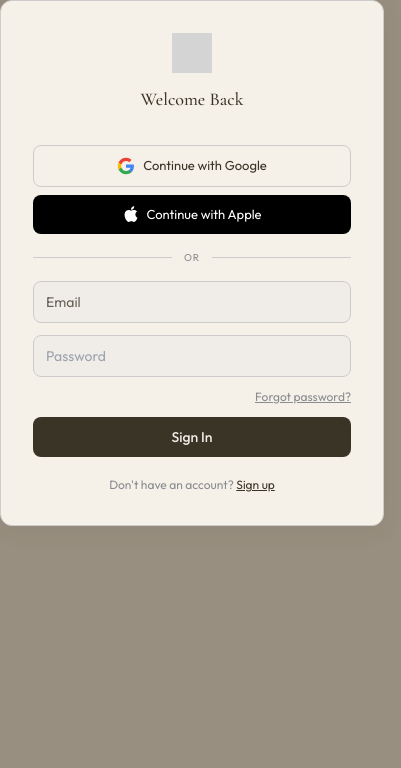
Test: AuthCard verify-password › on a match, swaps the card to the verify notice inline (no navigation, no sessionStorage)
Click the button "Sign up": [256, 485] box top-left (236, 477), bottom-right (275, 493)
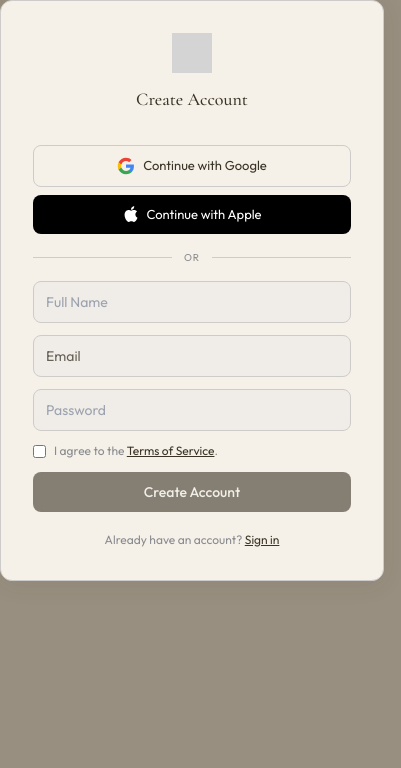
In the field with placeholder "Full Name": [192, 302] box top-left (33, 281), bottom-right (351, 323), type "Sarah"
In the field with placeholder "Email": [192, 356] box top-left (33, 335), bottom-right (351, 377), type "sarah@example.com"
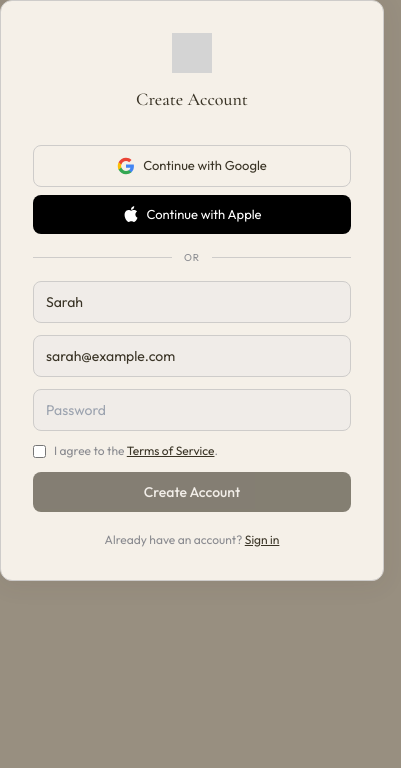
In the password field with placeholder "Password": [192, 410] box top-left (33, 389), bottom-right (351, 431), type "Secret1!"
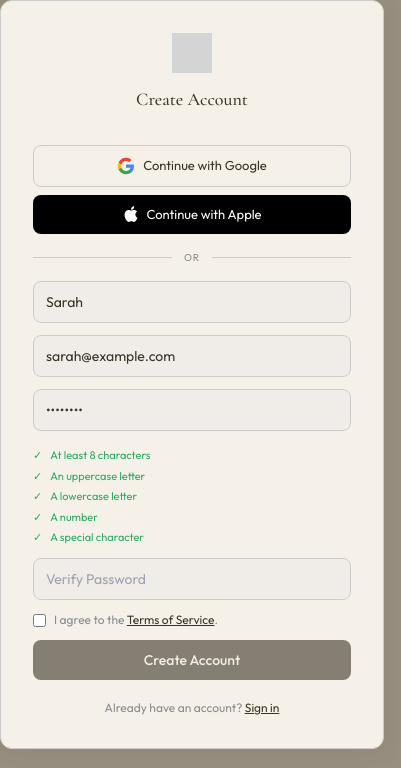
In the password field labelled "Verify Password": [192, 578] box top-left (33, 558), bottom-right (351, 600), type "Secret1!"
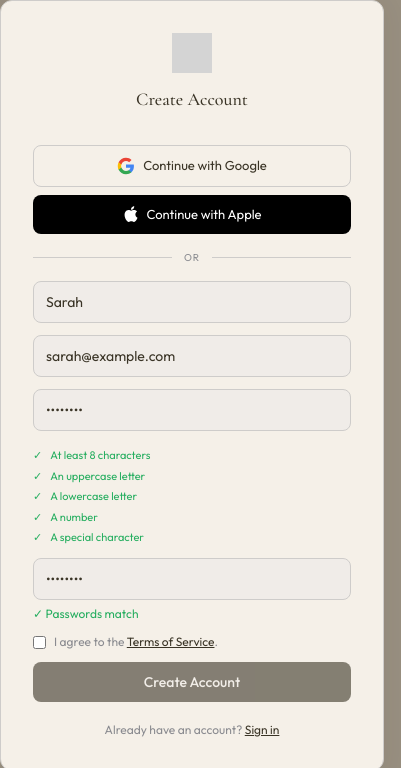
Click the checkbox: [40, 642] box top-left (33, 636), bottom-right (46, 648)
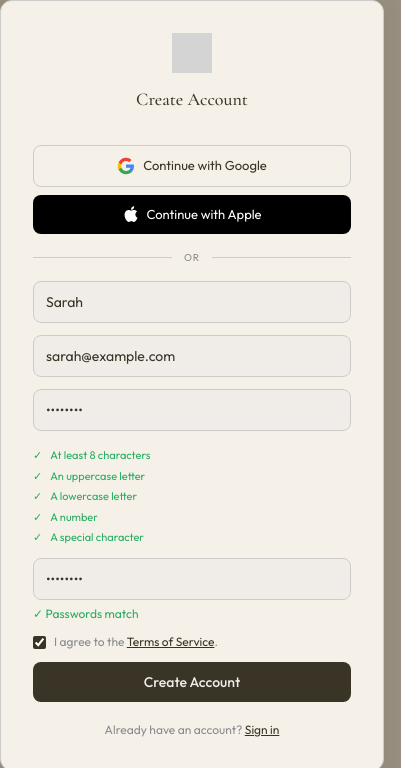
Click the button "Create Account": [192, 682] box top-left (33, 662), bottom-right (351, 702)
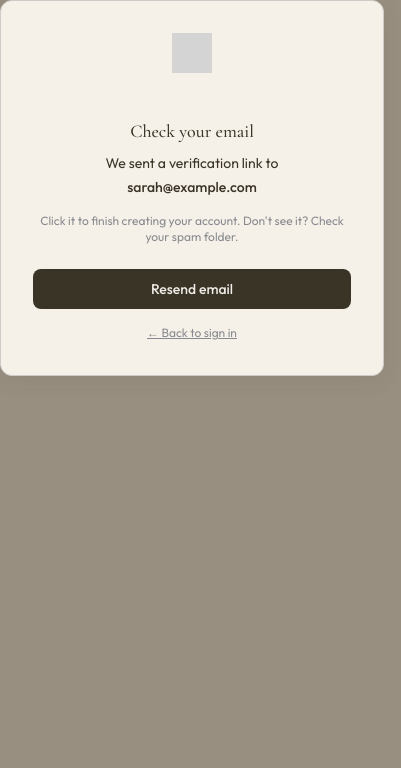
Expected: the field with placeholder "Full Name" is not shown
Expected: the heading "Check your email" is shown, top-left (130, 120), bottom-right (254, 142)
Expected: the text "sarah@example.com" is shown, top-left (127, 178), bottom-right (257, 196)
